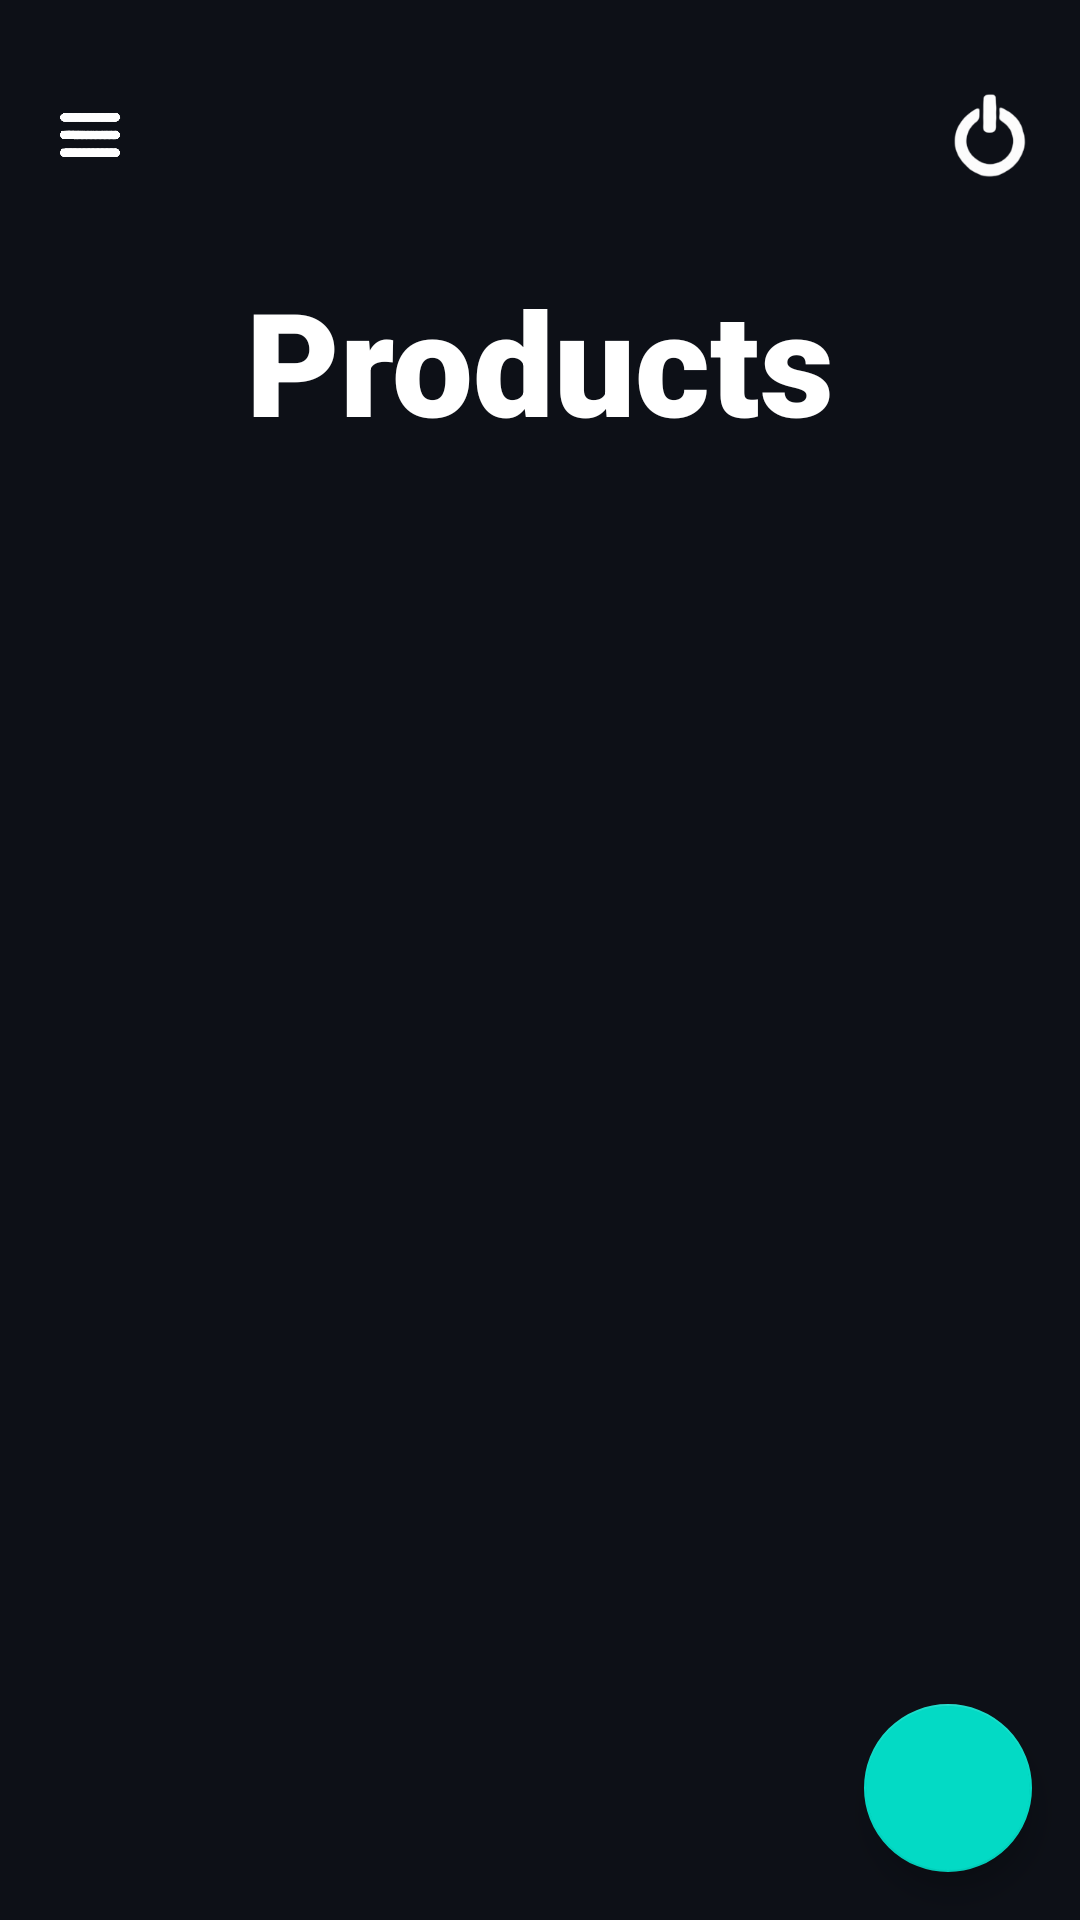

Where to tap for icons on this 1080 × 1920 app screen, as point (x, y):
menu: point (90, 135)
